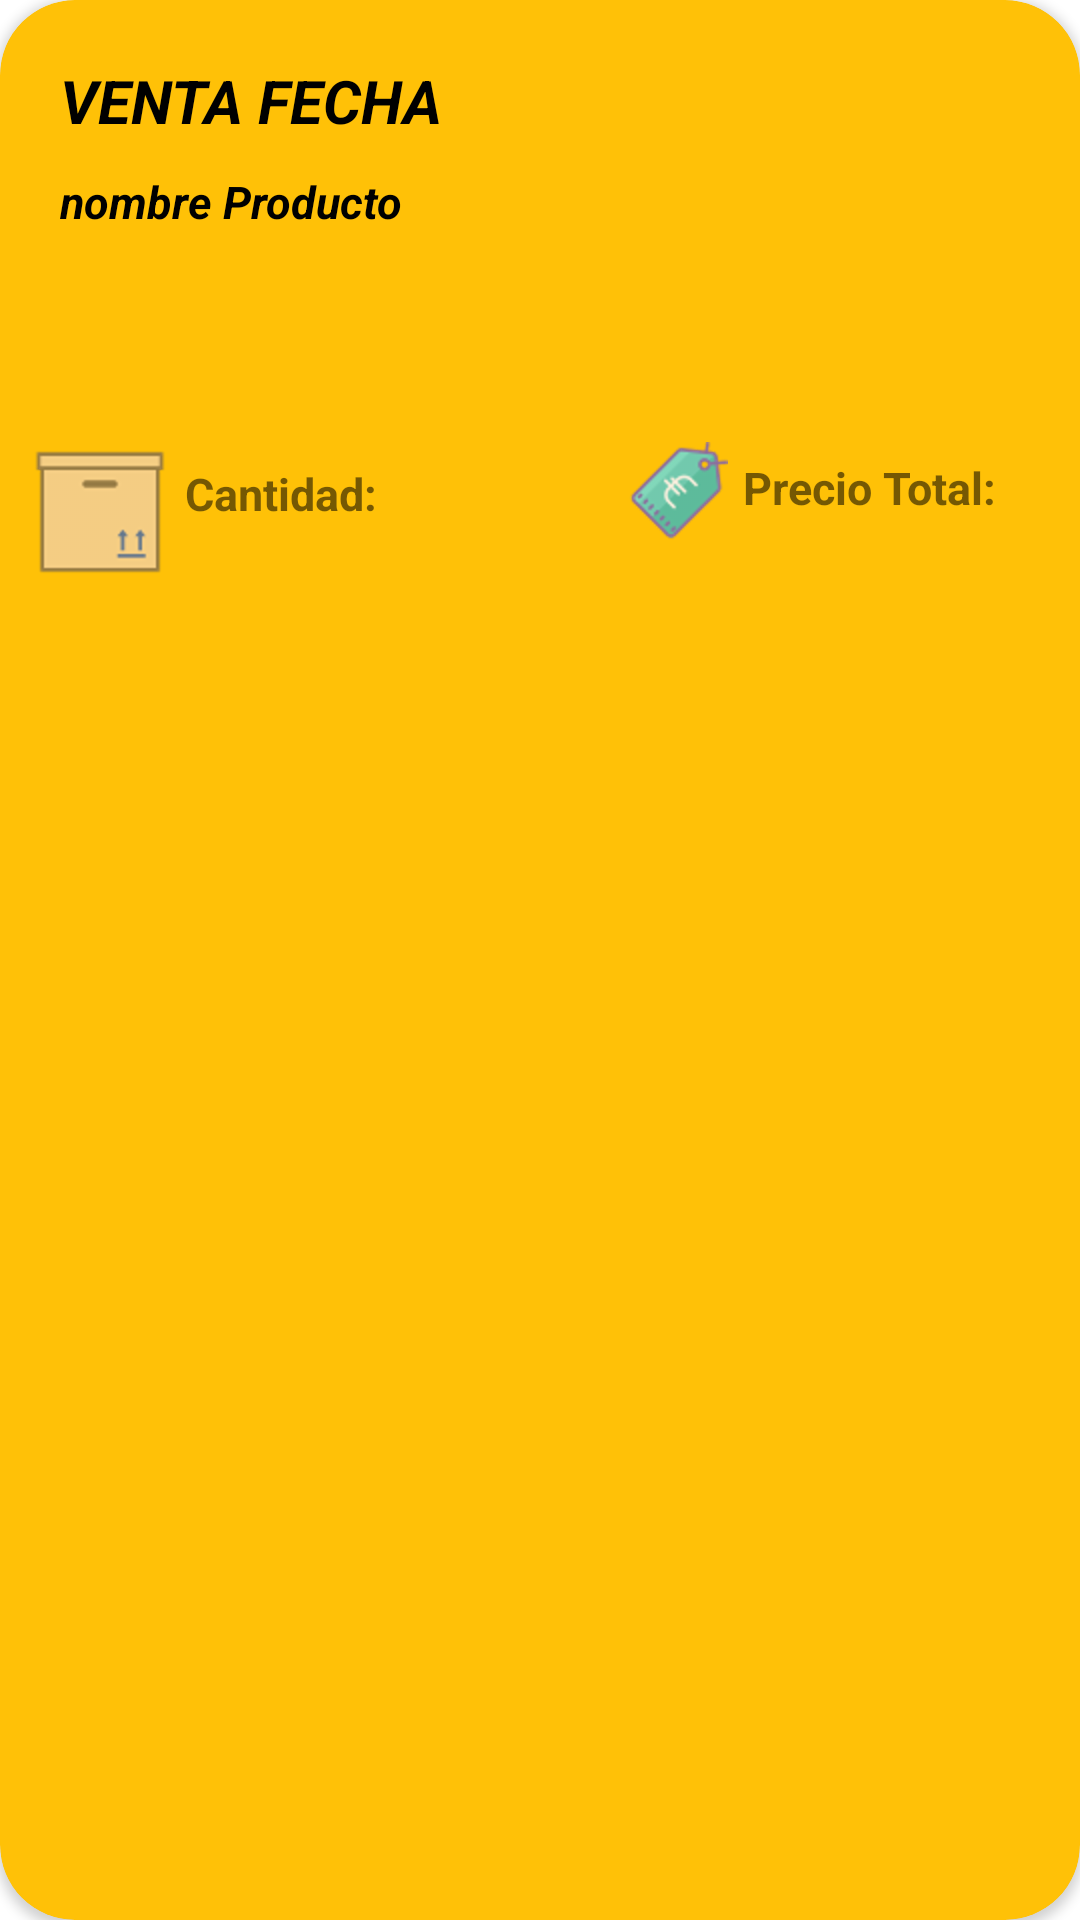

Named icons in this screenshot (1080px x 1920px) and their bounding boxes, (x1,y1,x2,y2):
price: (631,442,728,539)
producto: (36,452,164,572)
